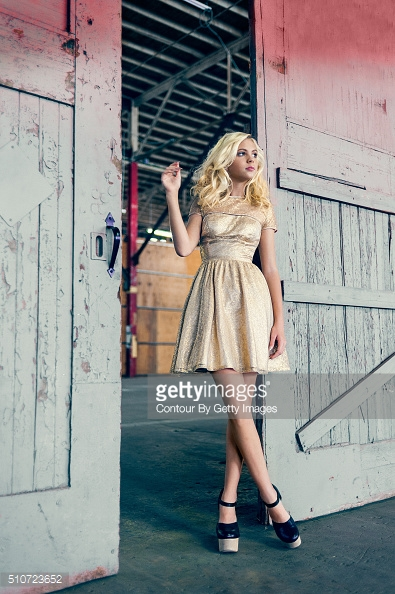em pe: (148, 125, 295, 556)
